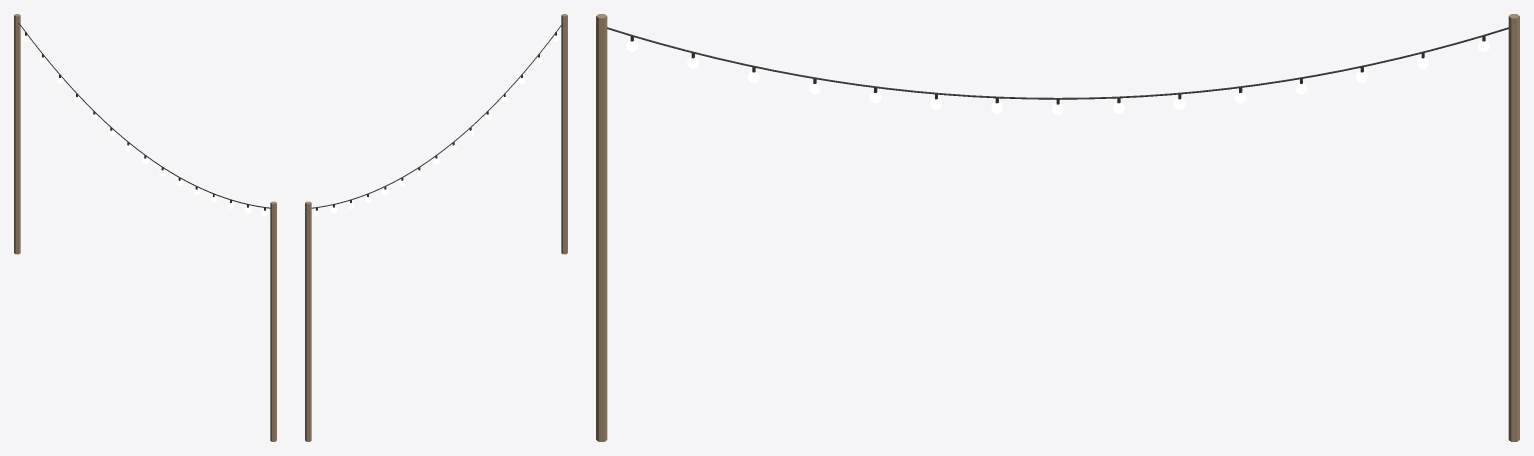
The model's file is string_lights_custom.glb.
The picture shows the model from 3 angles, left to right: view 1: azimuth 30°, elevation 25°; view 2: azimuth 150°, elevation 25°; view 3: azimuth 270°, elevation 25°; orthographic projection. The views are drawn at different scales.
Parts seen in each view (by area): view 1: body, bulbs; view 2: body, bulbs; view 3: body, bulbs.
Boxes of the visible parts, box(x1,y1,x2,y2) form: body: box(14, 14, 276, 441); bulbs: box(22, 35, 268, 216); body: box(305, 14, 567, 441); bulbs: box(313, 35, 559, 216); body: box(596, 14, 1519, 441); bulbs: box(626, 40, 1489, 114).
Size of the model in its own units: 0.0537 by 2.05 by 4.05.
